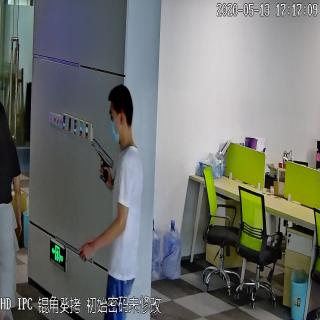gun: (91, 135, 114, 184)
